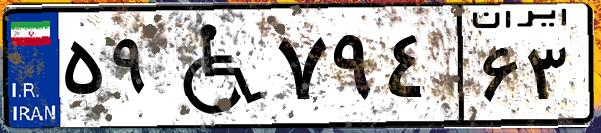3: (525, 38, 570, 115)
4: (385, 28, 445, 110)
5: (57, 26, 110, 100)
6: (475, 38, 525, 113)
7: (270, 28, 330, 110)
9: (330, 28, 385, 110), (110, 28, 158, 98)
ژ (معلولین و جانبازان): (158, 12, 270, 120)
